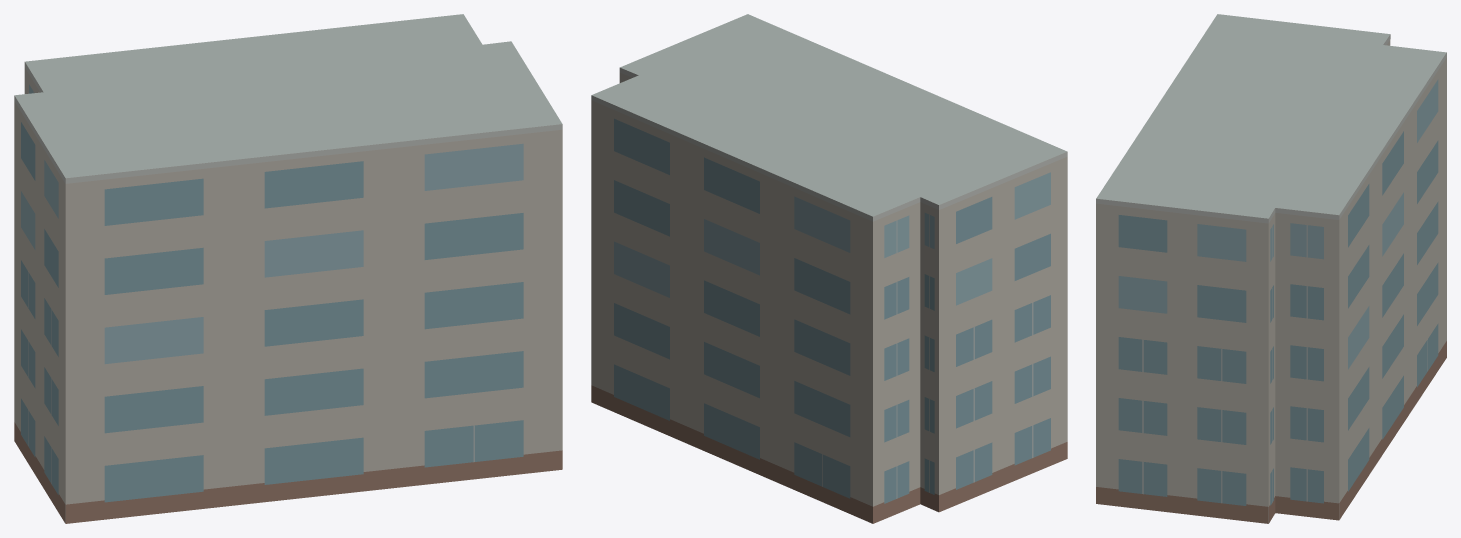
The model's file is survey-upis-32660182.glb.
3 renders of one model, left to right at view 1: azimuth 30°, elevation 25°; view 2: azimuth 150°, elevation 25°; view 3: azimuth 270°, elevation 25°, orthographic. The views are drawn at different scales.
Parts seen in each view (by area): view 1: survey-upis-32660182.tmp; view 2: survey-upis-32660182.tmp; view 3: survey-upis-32660182.tmp.
Part boxes in pixels (box(x1,y1,x2,y2)): survey-upis-32660182.tmp: box(14, 14, 562, 523); survey-upis-32660182.tmp: box(591, 14, 1067, 523); survey-upis-32660182.tmp: box(1096, 14, 1446, 523).
Size of the model in its own units: 21.72 by 15.1 by 15.73.
